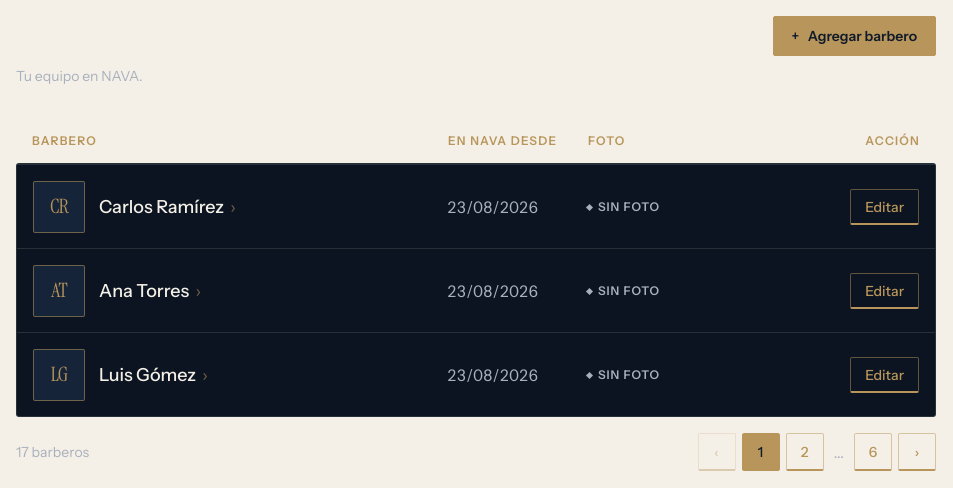
Test: StaffPage › fits the initial page and ignores an old page response after a smaller resize (#288)
The width and height of the screenshot is (953, 488).
Expected: the number of list items with class "staff-page__row" is 3, [17,164,935,248]; [17,248,935,332]; [17,332,935,416]
Click the button named "Página siguiente": (917, 452) [898,433,936,471]
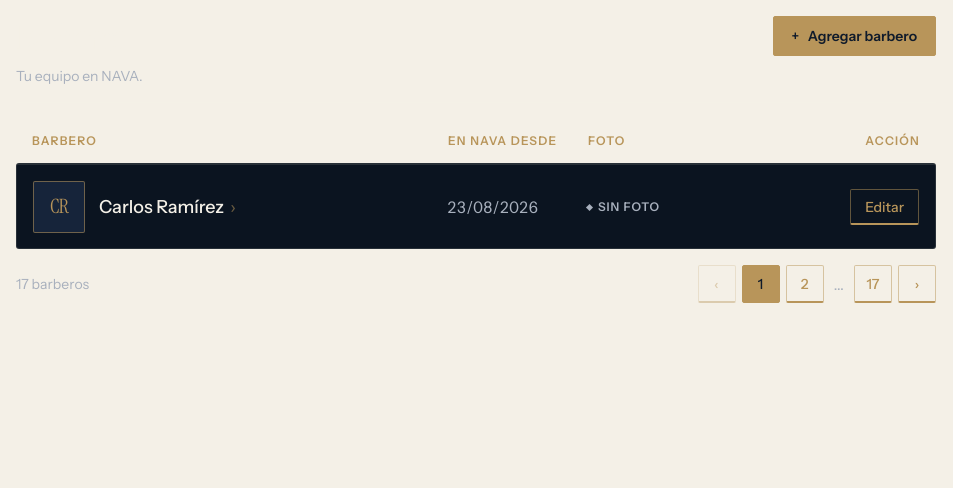
Now the number of list items with class "staff-page__row" is 1, box [17,164,935,248]
